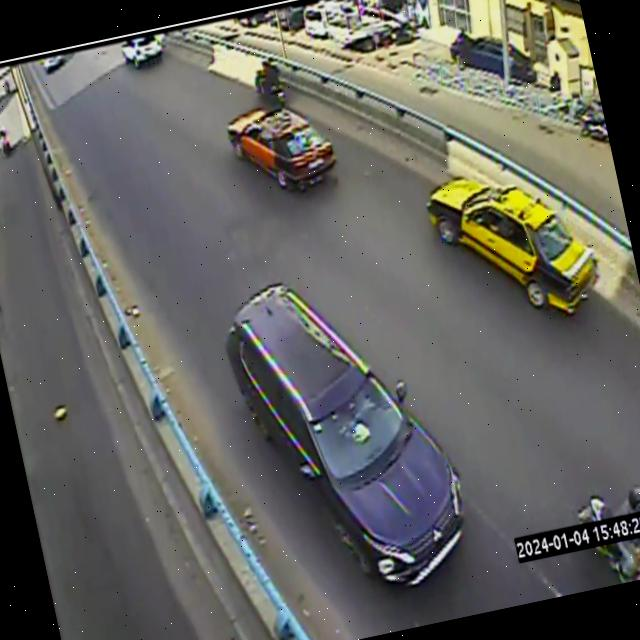car: (224, 282, 463, 584), (426, 175, 598, 311), (227, 107, 335, 189), (121, 34, 163, 67)
